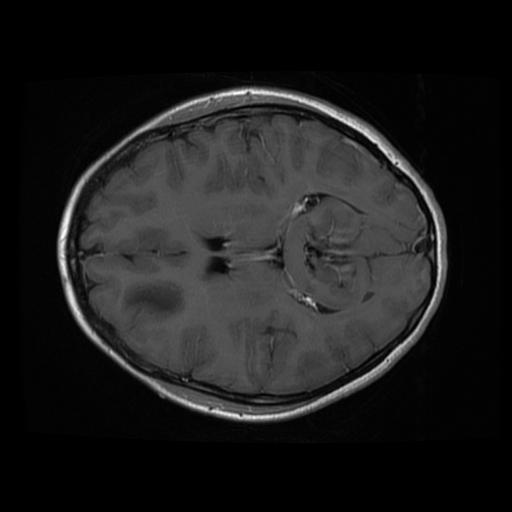glioma: (121, 277, 185, 319)
